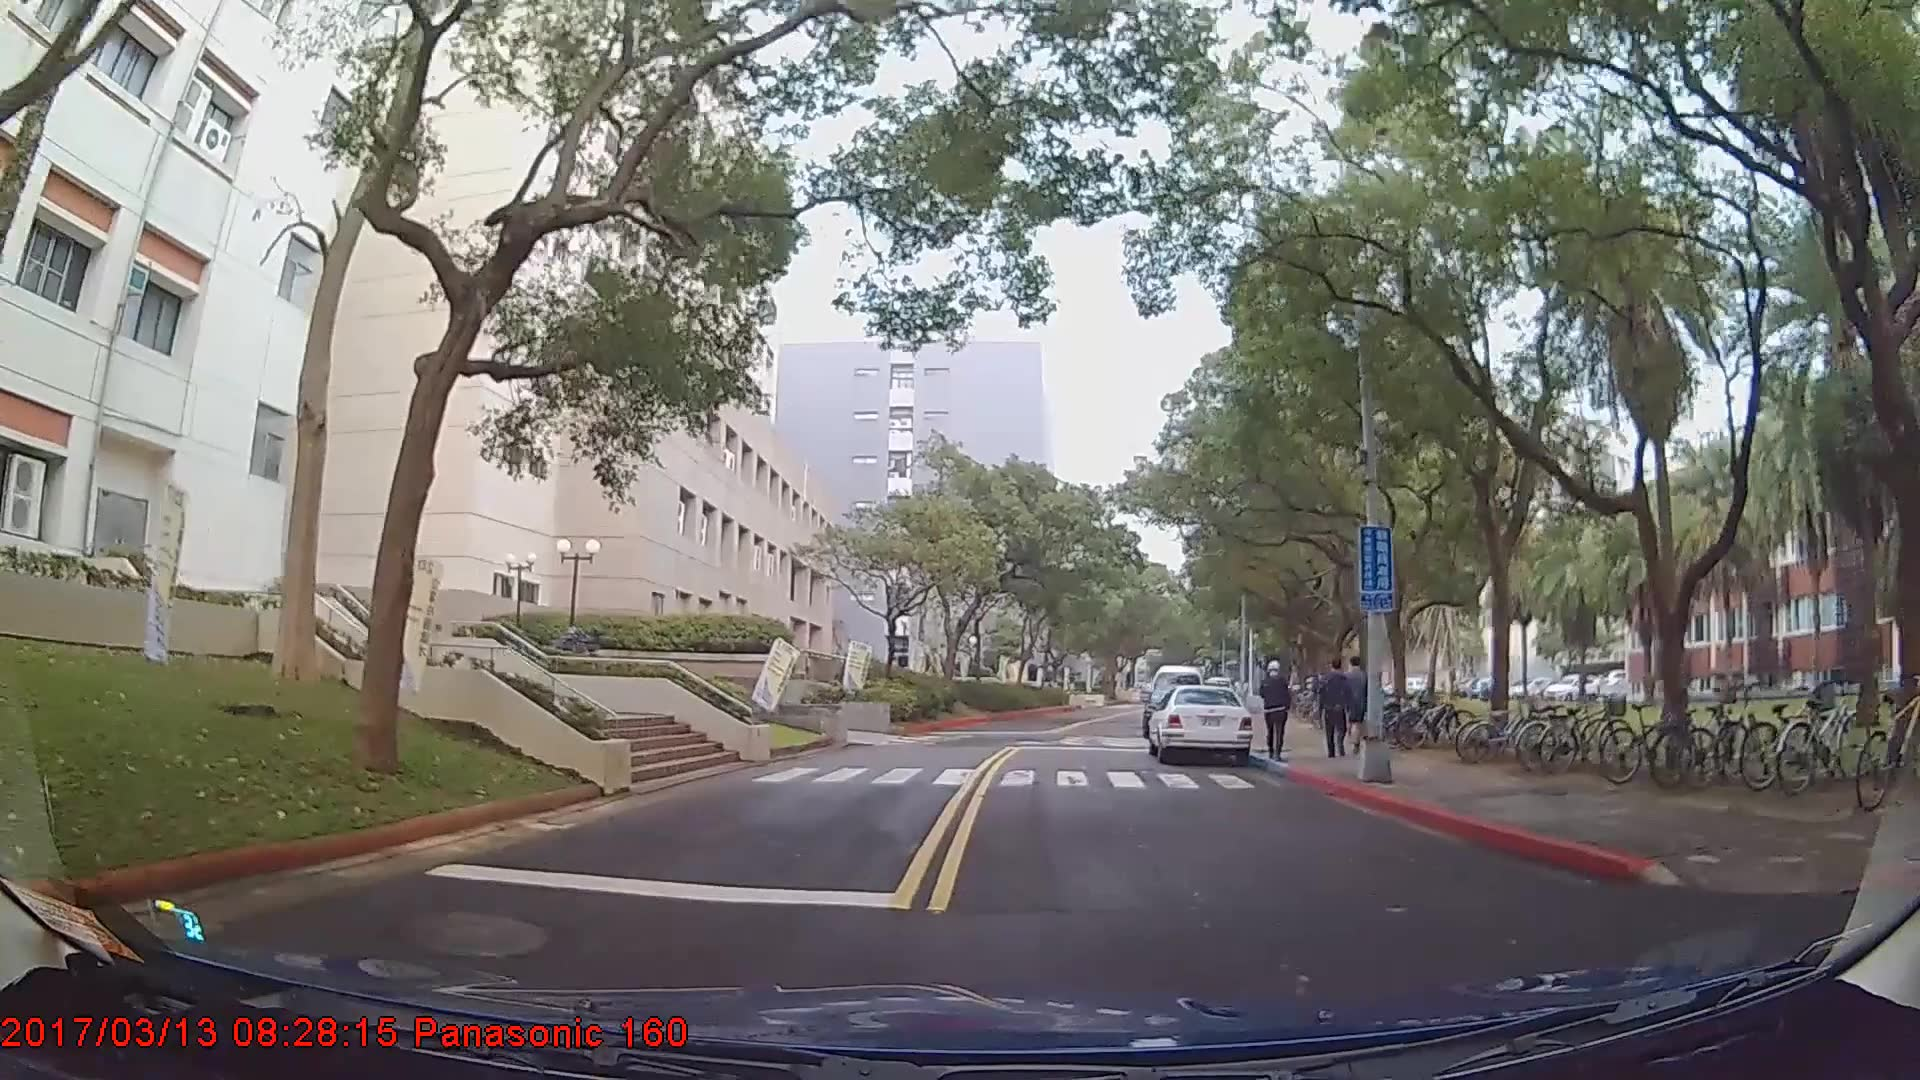pedestrian: (1322, 655, 1359, 759), (1261, 660, 1292, 763)
vehicle: (1142, 683, 1253, 761)
